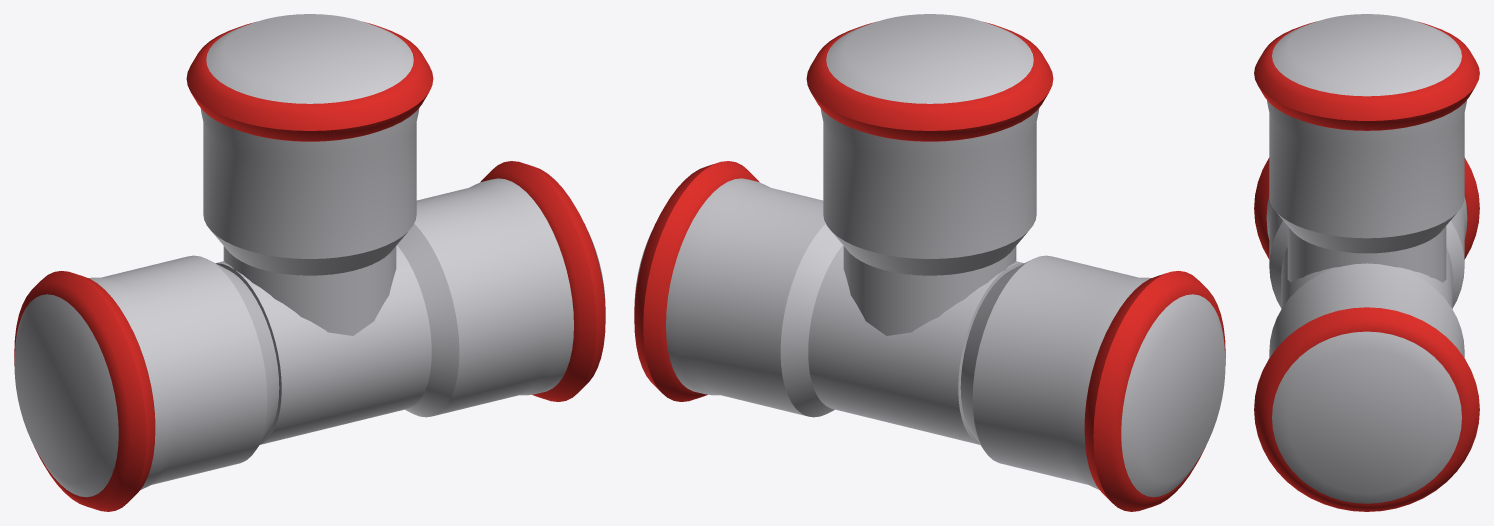
The model's file is fitting_tee_22_r.glb.
3 renders of one model, left to right at view 1: azimuth 30°, elevation 25°; view 2: azimuth 150°, elevation 25°; view 3: azimuth 270°, elevation 25°, orthographic. The views are drawn at different scales.
Visible parts, largest first — view 1: раструб.002, раструб.001, раструб, узел, кольцо пресс.001, кольцо пресс.002, кольцо пресс, корпус.001; view 2: раструб.002, раструб.001, раструб, узел, кольцо пресс.001, кольцо пресс.002, кольцо пресс, корпус.001; view 3: раструб.002, раструб, кольцо пресс, кольцо пресс.002, корпус.001, раструб.001, кольцо пресс.001, узел.
Part boxes in pixels (left/top/right/bottom): раструб.002: left=200, top=14, right=419, bottom=275; раструб.001: left=14, top=255, right=279, bottom=497; раструб: left=397, top=178, right=605, bottom=417; узел: left=216, top=245, right=431, bottom=444; кольцо пресс.001: left=14, top=271, right=155, bottom=511; кольцо пресс.002: left=186, top=22, right=433, bottom=141; кольцо пресс: left=480, top=161, right=605, bottom=401; корпус.001: left=223, top=246, right=396, bottom=335; раструб.002: left=820, top=14, right=1039, bottom=275; раструб.001: left=960, top=255, right=1225, bottom=497; раструб: left=634, top=178, right=842, bottom=417; узел: left=808, top=245, right=1023, bottom=444; кольцо пресс.001: left=1084, top=271, right=1225, bottom=511; кольцо пресс.002: left=806, top=22, right=1053, bottom=141; кольцо пресс: left=634, top=161, right=759, bottom=401; корпус.001: left=843, top=246, right=1016, bottom=335; раструб.002: left=1267, top=14, right=1466, bottom=253; раструб: left=1269, top=263, right=1464, bottom=503; кольцо пресс: left=1254, top=307, right=1479, bottom=511; кольцо пресс.002: left=1254, top=21, right=1479, bottom=130; корпус.001: left=1287, top=226, right=1446, bottom=282; раструб.001: left=1266, top=197, right=1467, bottom=307; кольцо пресс.001: left=1254, top=157, right=1479, bottom=259; узел: left=1281, top=247, right=1452, bottom=308.
Bounding box in the file's own units: 0.084 × 0.0633 × 0.0356.
